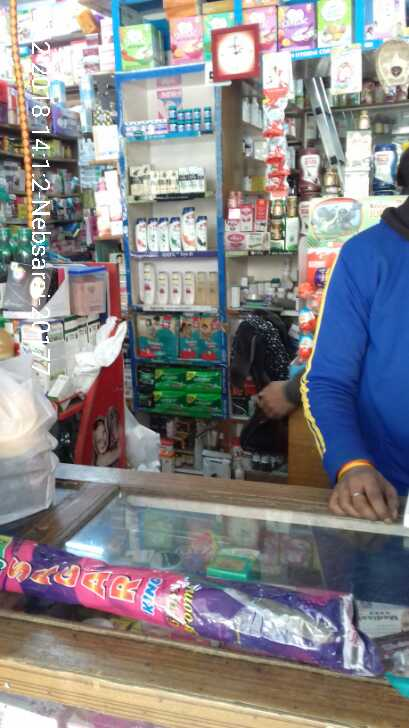vicks: (123, 97, 215, 141)
